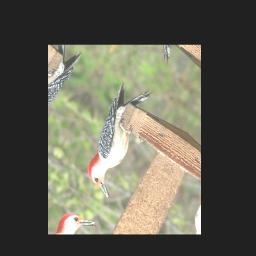Woodpecker: (74, 73, 163, 201)
